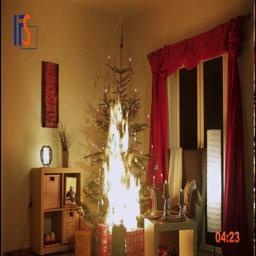fire: (95, 92, 152, 241)
